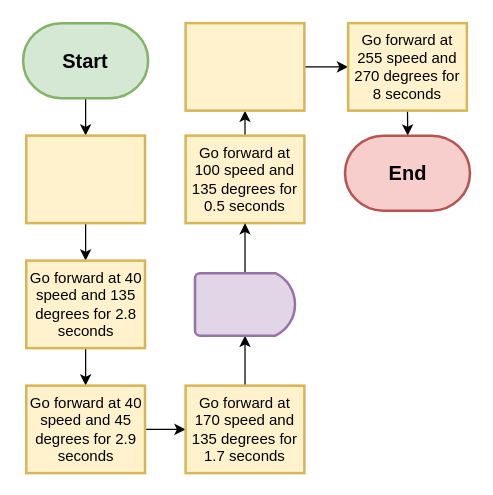
Image size: 493x495. Some labels were removed from this diagram. The centre of each missing label's shape, as x and y in pixels:
"Come to a complete stop" belongs at point (244, 303).
"Go forward at 40 speed and 45 degrees for 2.5 seconds" belongs at point (85, 179).
"Go forward at 60 speed and 270 degrees for 0.8 seconds" belongs at point (244, 66).
